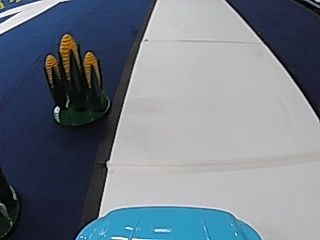corn: (42, 30, 111, 126)
